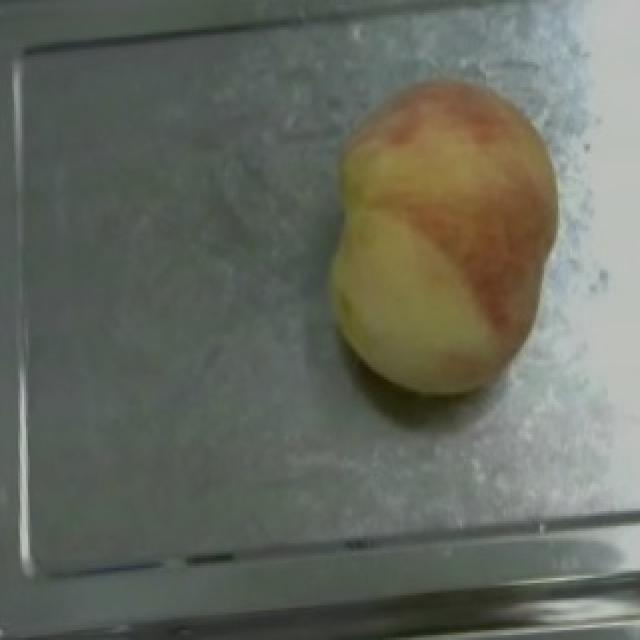Fruit: (304, 124, 564, 409)
